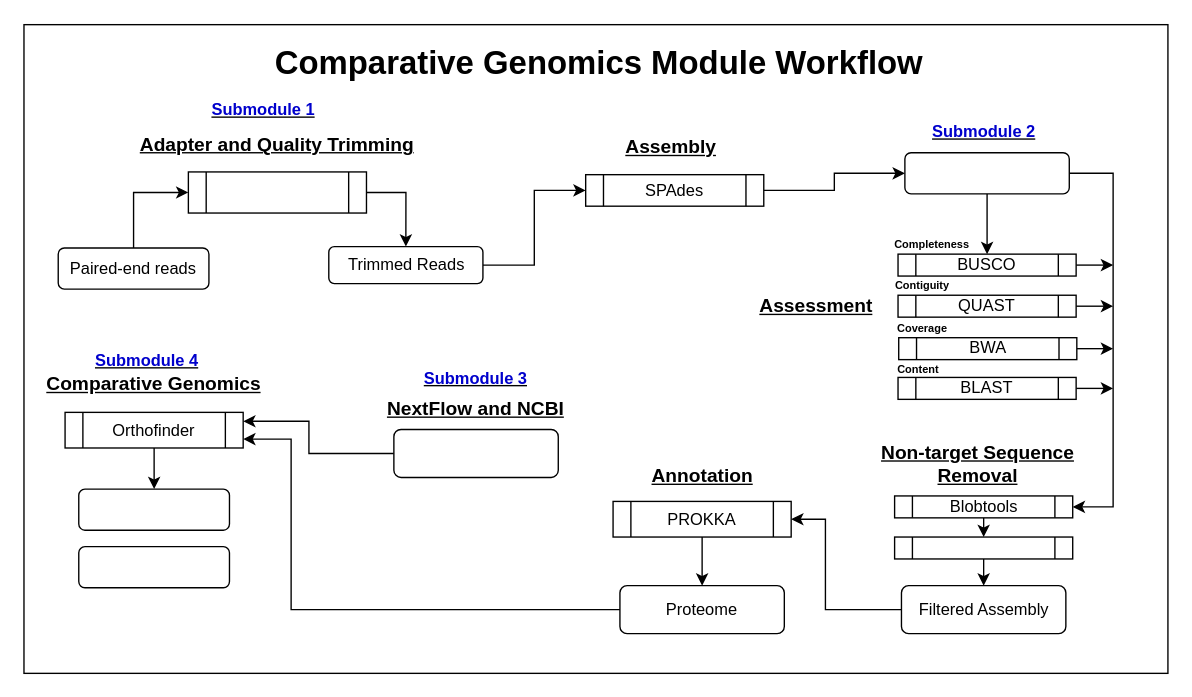
Some shapes in this 1192 by 697 pixel diagram are drawn without their labels. Here are the shapes that lost their labels. From the top down, the centre of each, then its label:
At [276,192]: "FASTQC and FASTP".
At [986,172]: "Initial Assembly".
At [475,452]: "Proteomes".
At [153,509]: "Orthogroups".
At [153,566]: "Phylogenetic Tree".
At [983,547]: "BASH/Python".
